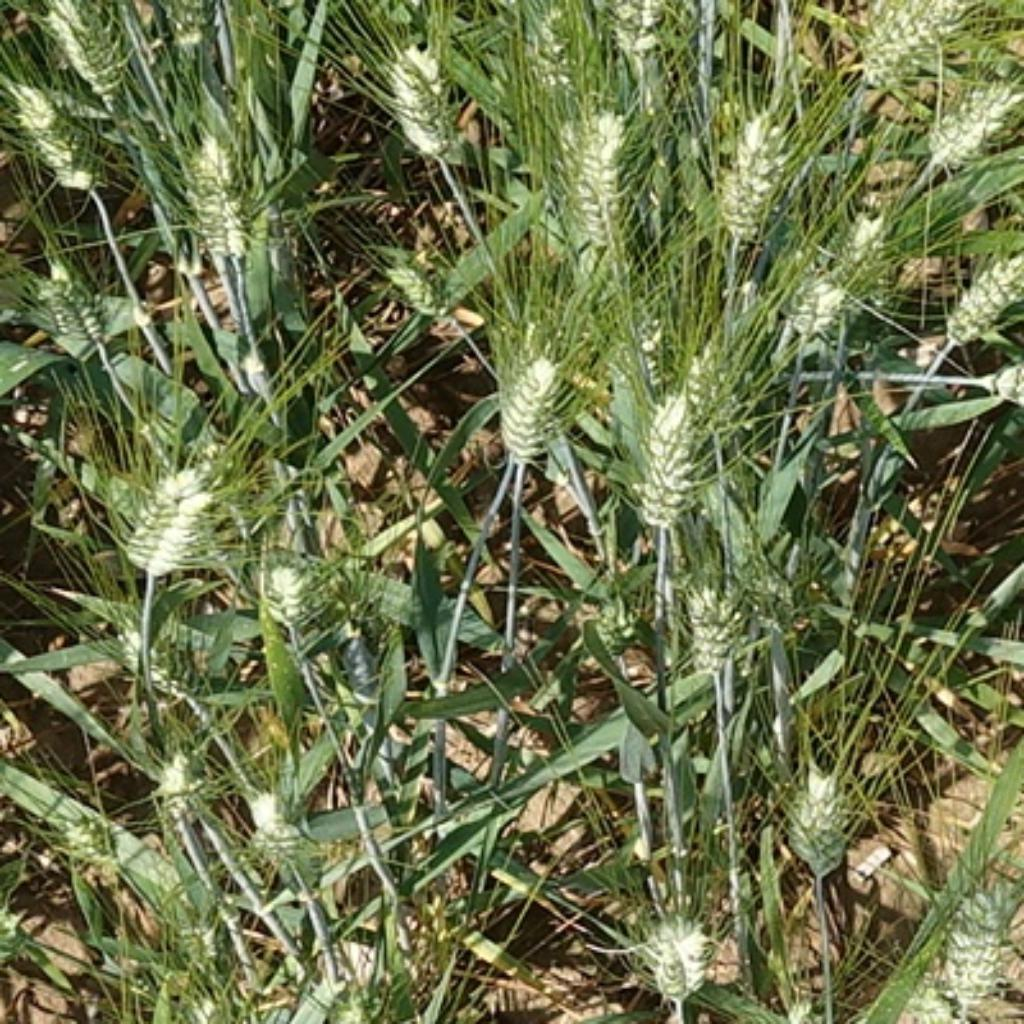0-0: (481, 281, 596, 473), (99, 437, 227, 570), (925, 846, 1024, 1015), (540, 84, 642, 248), (706, 102, 808, 245), (619, 386, 711, 542), (371, 25, 471, 156), (171, 122, 263, 258), (2, 71, 97, 199), (911, 74, 1024, 181), (773, 750, 862, 867), (25, 248, 128, 348), (852, 2, 970, 84), (665, 555, 744, 670), (40, 2, 130, 99), (939, 238, 1024, 340), (821, 197, 903, 302), (245, 535, 317, 645), (780, 268, 865, 360), (686, 322, 747, 450), (232, 773, 314, 867), (583, 565, 660, 655), (145, 732, 220, 821), (629, 914, 704, 997), (376, 235, 453, 314), (118, 621, 183, 695), (599, 2, 663, 76), (611, 311, 664, 397), (529, 2, 591, 74), (168, 913, 234, 977), (56, 806, 119, 867), (983, 345, 1024, 422)
